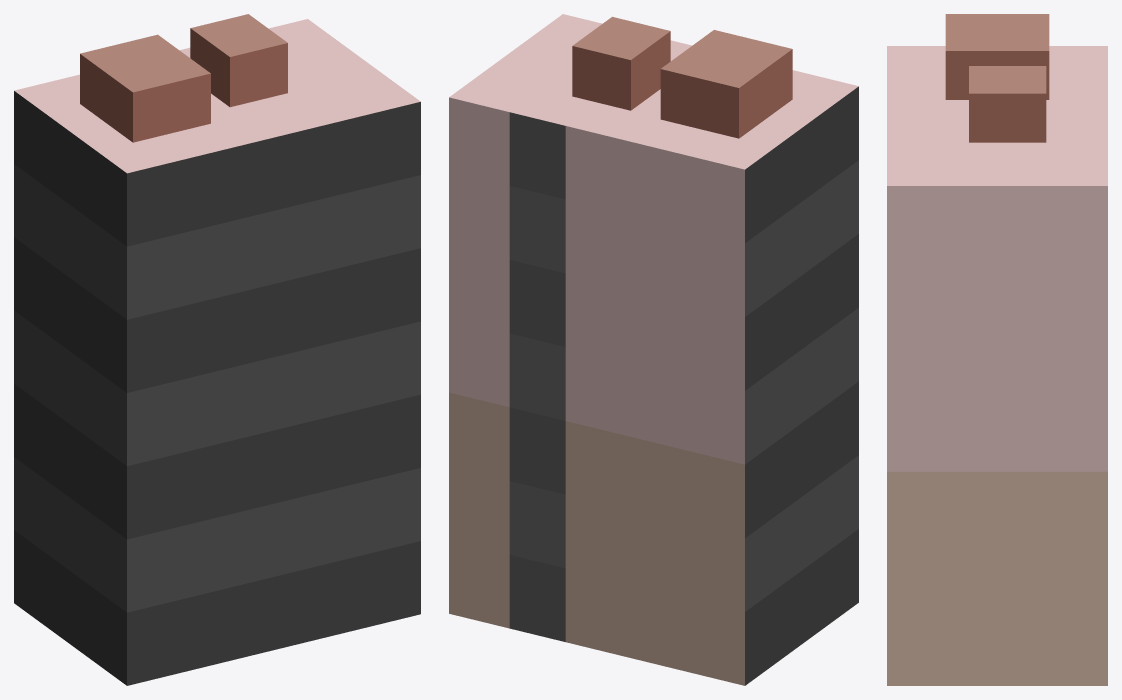
File: SM_Building_01.fbx
3 renders of one model, left to right at view 1: azimuth 30°, elevation 25°; view 2: azimuth 150°, elevation 25°; view 3: azimuth 270°, elevation 25°, orthographic. The views are drawn at different scales.
Parts seen in each view (by area): view 1: SM_Building_01; view 2: SM_Building_01; view 3: SM_Building_01.
Boxes of the visible parts, left/top/right/bottom form: SM_Building_01: left=14, top=14, right=420, bottom=685; SM_Building_01: left=449, top=14, right=858, bottom=685; SM_Building_01: left=887, top=14, right=1107, bottom=685.
Size of the model in its own units: 3 by 5.49 by 2.
